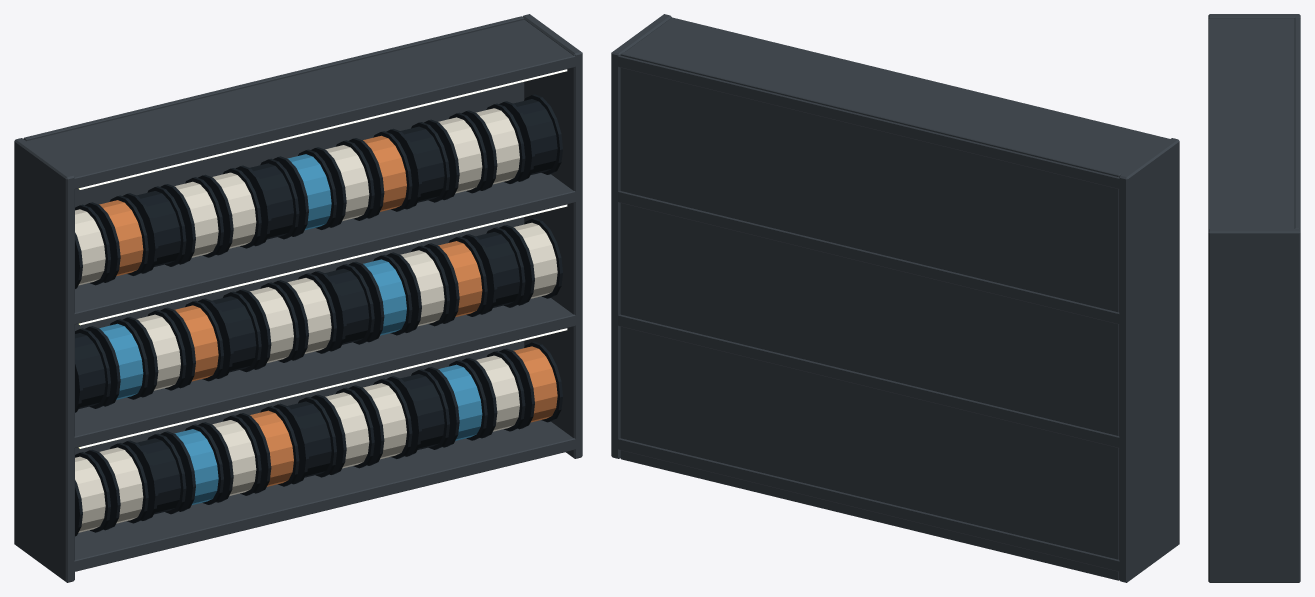
The model's file is shelf.glb.
3 views of the same model, side by side, from view 1: azimuth 30°, elevation 25°; view 2: azimuth 150°, elevation 25°; view 3: azimuth 270°, elevation 25° (orthographic). The views are drawn at different scales.
Parts seen in each view (by area): view 1: shelf_Graphite_frame, shelf_Rubber_and_belts, shelf_Warm_white_filament, shelf_Copper_filament, shelf_Ocean_blue_filament, shelf_Warm_linear_light; view 2: shelf_Graphite_frame; view 3: shelf_Graphite_frame.
Boxes of the visible parts, <box> form: shelf_Graphite_frame: <box>14,14,582,582</box>; shelf_Rubber_and_belts: <box>75,94,562,536</box>; shelf_Warm_white_filament: <box>75,108,557,532</box>; shelf_Copper_filament: <box>99,135,557,486</box>; shelf_Ocean_blue_filament: <box>99,154,482,504</box>; shelf_Warm_linear_light: <box>78,69,567,448</box>; shelf_Graphite_frame: <box>611,14,1179,582</box>; shelf_Graphite_frame: <box>1208,14,1300,582</box>.
Size of the model in its own units: 2.8 by 2.1 by 0.5.
